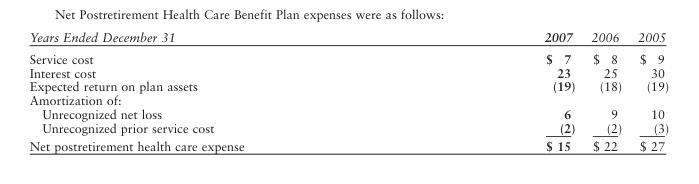table: (28, 29, 668, 152)
table column: (28, 29, 393, 152), (393, 29, 582, 152), (582, 29, 629, 152), (629, 29, 668, 152)
table column header: (28, 29, 668, 47)
table projected row header: (28, 92, 668, 106)
table row: (28, 29, 668, 47), (28, 47, 668, 64), (28, 120, 668, 136), (28, 136, 668, 152), (28, 64, 668, 78), (28, 78, 668, 92), (28, 92, 668, 106), (28, 106, 668, 120)
